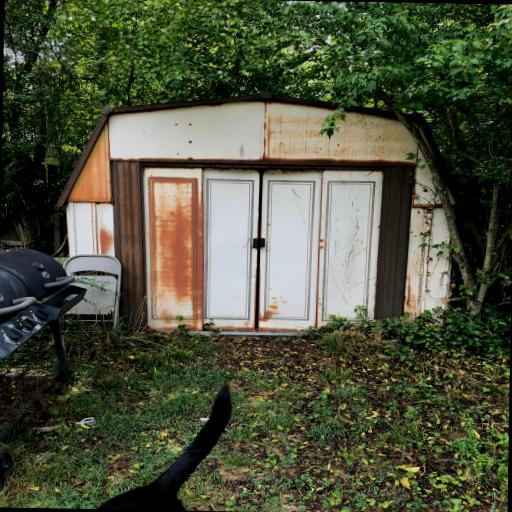segmentation: (148, 175, 204, 330), (149, 176, 203, 324), (110, 157, 414, 171), (66, 124, 111, 203), (404, 238, 431, 317), (410, 209, 432, 231), (99, 221, 113, 254), (412, 200, 442, 211), (218, 325, 255, 332), (258, 327, 301, 333), (205, 325, 218, 332), (319, 239, 324, 249)
